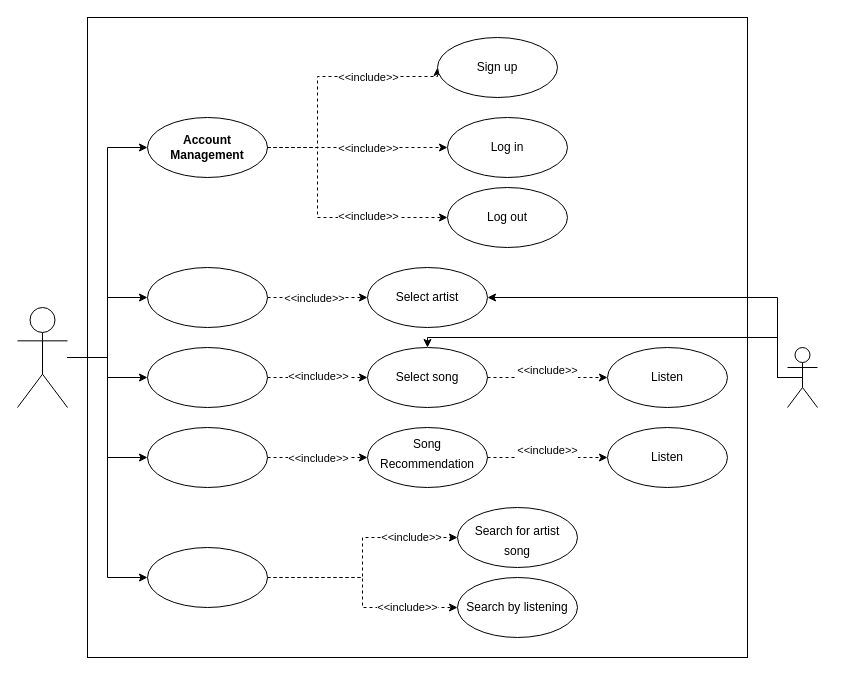
The diagram is 866 pixels wide and 675 high, and some of its shapes have lost their labels. The shapes that lost their labels are listed below. From the top down, each one's box as (x1, y1, x2, y2) in pixels, then its label:
(146, 266, 268, 328): View artist info
(16, 306, 68, 408): User
(146, 346, 268, 408): View song info
(786, 346, 818, 408): Database system
(146, 426, 268, 488): Browse Catalogue
(146, 546, 268, 608): Search Function
